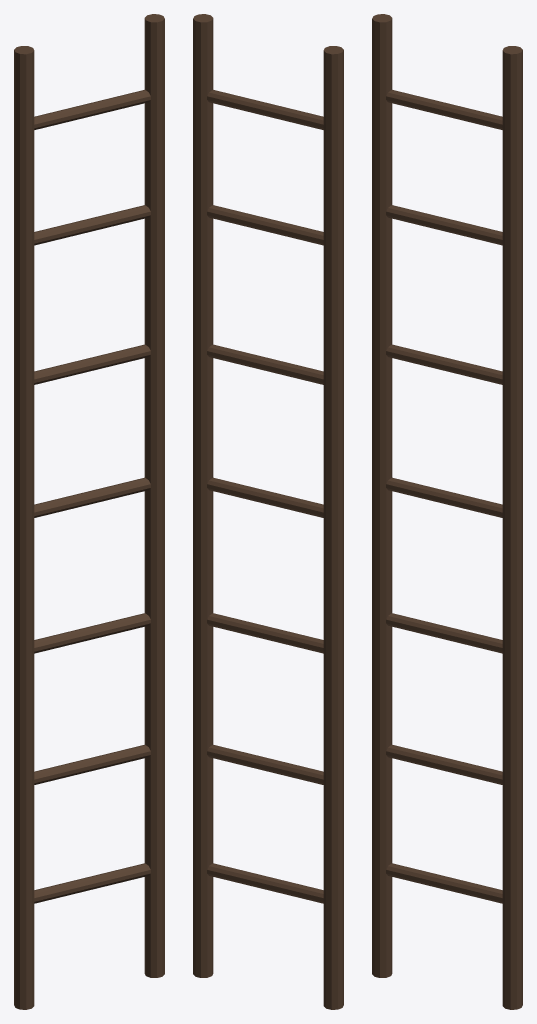
File: Ladder.fbx
3 renders of one model, left to right at view 1: azimuth 30°, elevation 25°; view 2: azimuth 150°, elevation 25°; view 3: azimuth 330°, elevation 25°, orthographic.
Visible parts, largest first — view 1: Ladder; view 2: Ladder; view 3: Ladder.
Part boxes in pixels (x1=…): Ladder: x1=14, y1=14, x2=164, y2=1009; Ladder: x1=193, y1=14, x2=343, y2=1009; Ladder: x1=372, y1=14, x2=522, y2=1009.
Size of the model in its own units: 1.14 by 7 by 0.1291.
